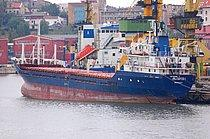Ship: (13, 33, 201, 109)
